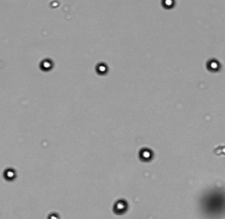Living Cell: (205, 57, 222, 74), (112, 197, 130, 213), (137, 146, 154, 162), (94, 61, 111, 76), (39, 56, 54, 72), (3, 167, 18, 181), (159, 1, 177, 9), (49, 1, 61, 8)
